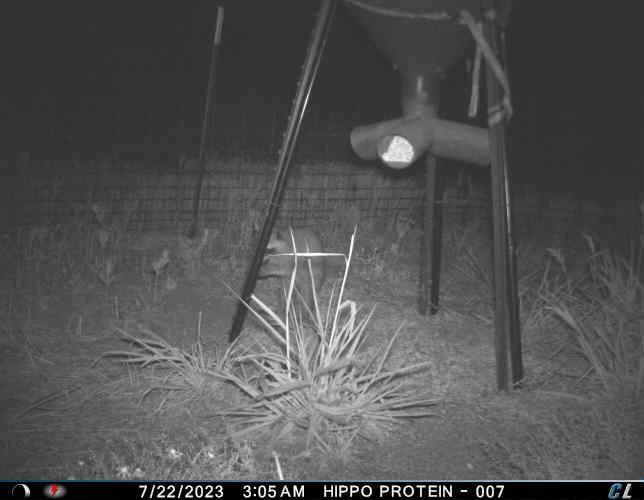Raccoon: (257, 222, 327, 329)
